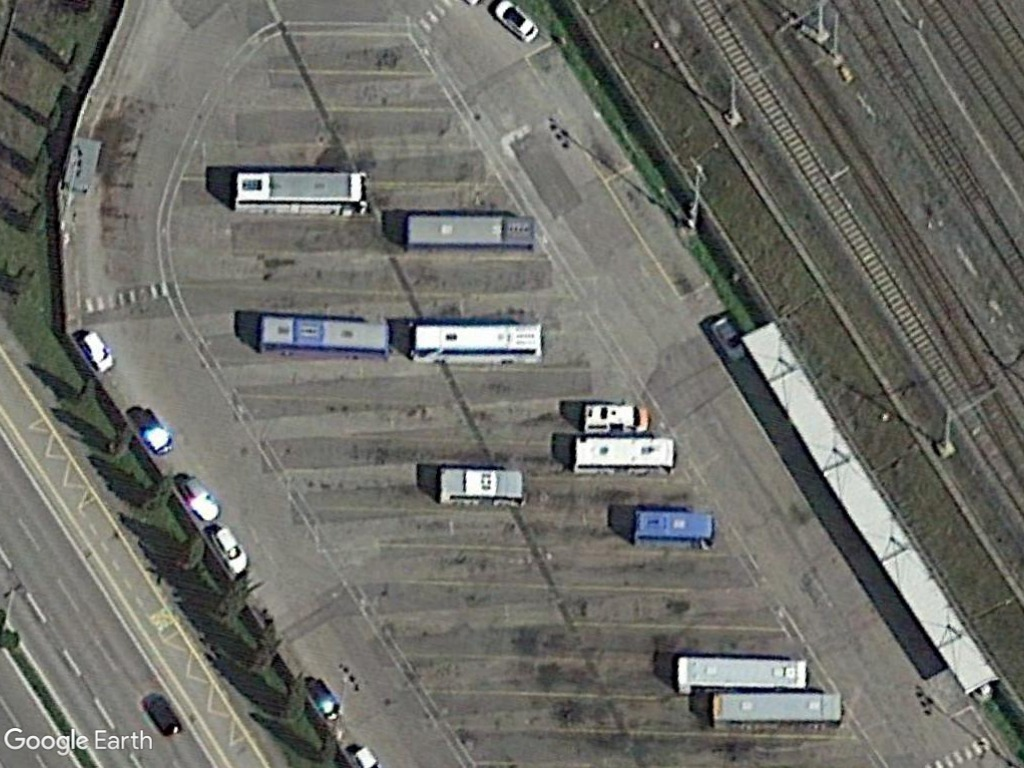bus: (402, 318, 549, 369), (229, 167, 371, 218), (252, 311, 395, 361), (673, 649, 813, 694), (401, 208, 538, 252), (709, 689, 843, 733), (567, 433, 676, 479), (434, 464, 530, 508), (628, 507, 718, 552)
car: (206, 521, 253, 579), (487, 0, 542, 43), (706, 311, 748, 362), (75, 327, 117, 376)
other: (578, 398, 652, 437)
